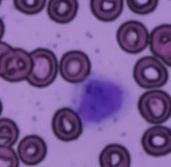L: (74, 72, 132, 127)
